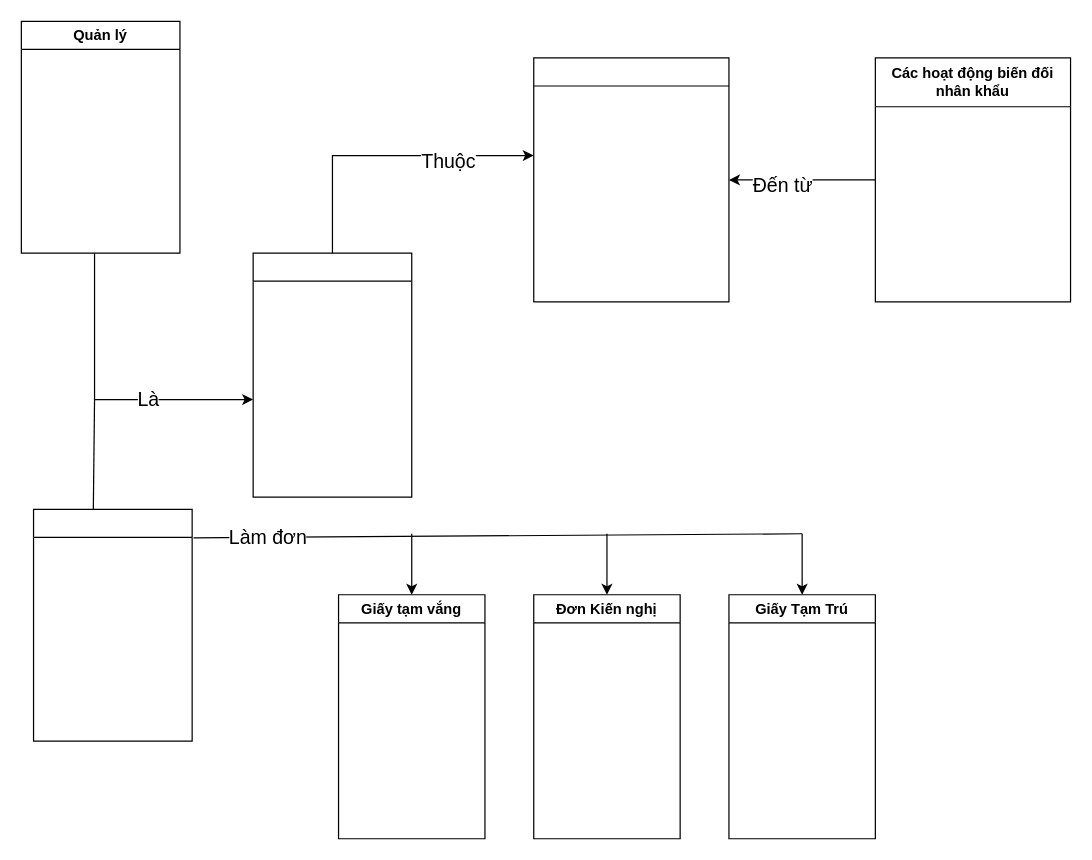
Image size: 1092x860. Some labels were removed from this diagram. The shapes that lost their labels are listed below. From the top down, each one's centre as x and y in pixels, then its label:
At pixel 631 179: "Sổ Hộ Khẩu".
At pixel 332 374: "Nhân khẩu (Person)".
At pixel 112 624: "Người dân".
